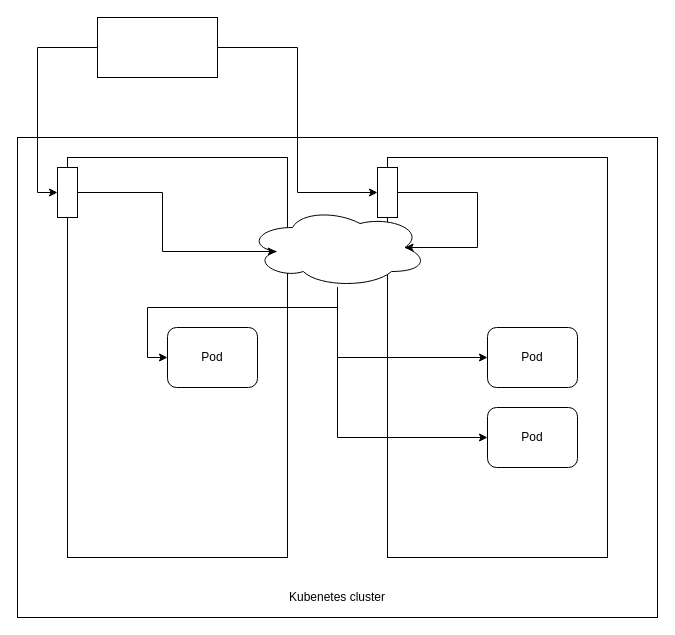
This 675x635 diagram has some shape labels left out. Here are the shapes that lost their labels. From the top down, the centre of each, then its label:
At [157,47]: "外部客户端".
At [337,247]: "服务".
